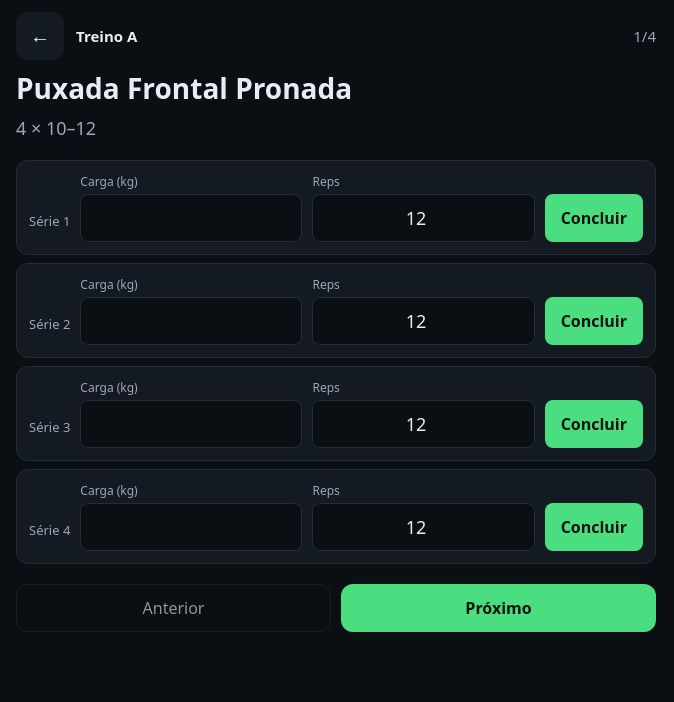
Test: ExecucaoTreino › um exercício por vez, nunca a lista inteira › avança e volta entre exercícios
Click the button "Próximo": point(498, 608) [341,584,656,632]
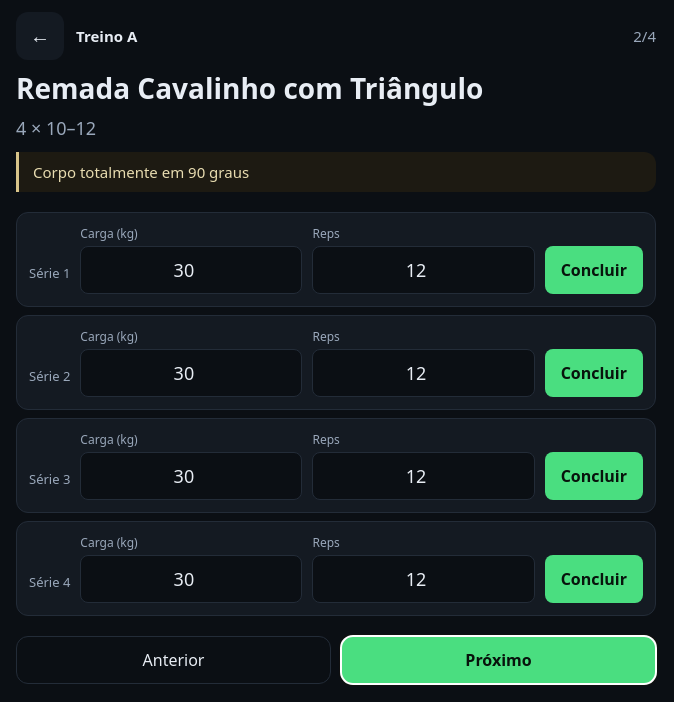
Now the heading "Remada Cavalinho com Triângulo" is shown, box [16,69,483,107]
Click the button "Anterior": point(174, 660) [16,636,331,684]
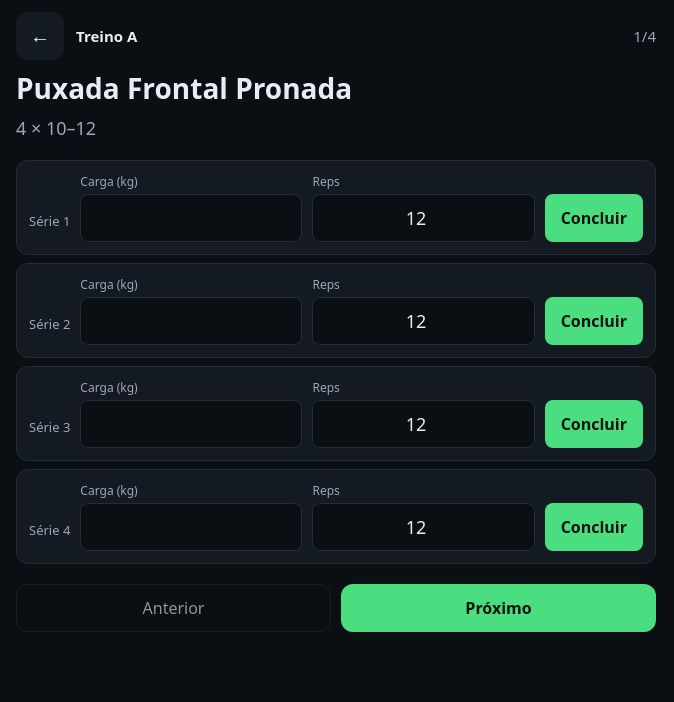
Now the heading "Puxada Frontal Pronada" is shown, box [16,69,352,107]
